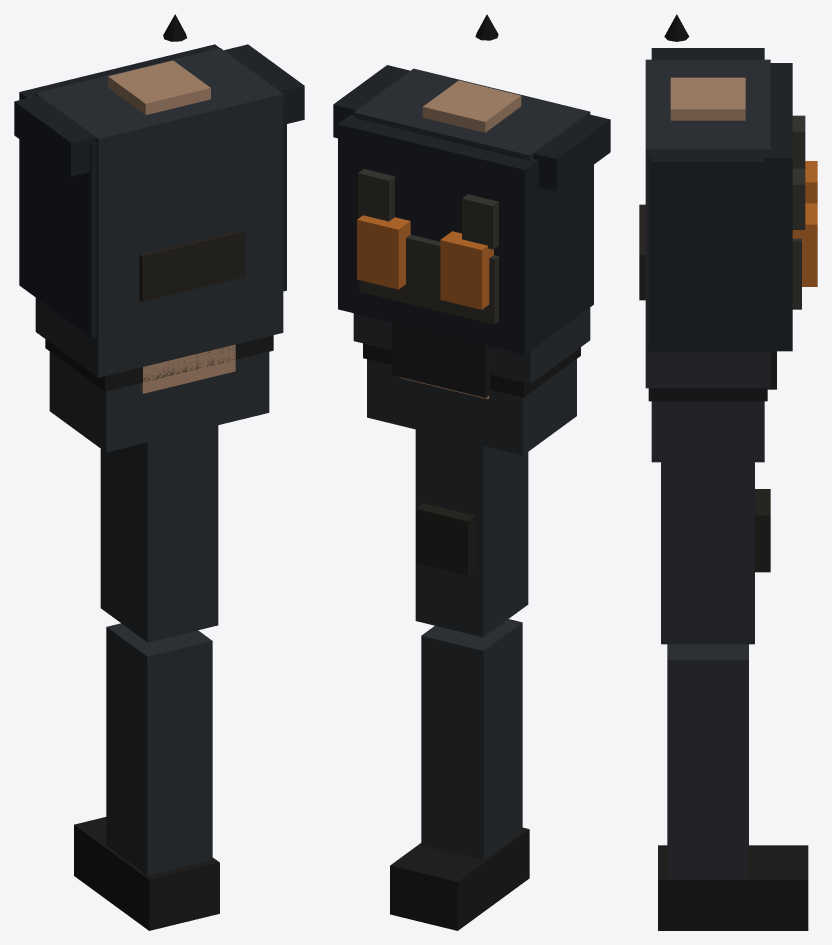
The model's file is operator_bandit.glb.
3 renders of one model, left to right at view 1: azimuth 30°, elevation 25°; view 2: azimuth 150°, elevation 25°; view 3: azimuth 270°, elevation 25°, orthographic. The views are drawn at different scales.
Parts seen in each view (by area): view 1: torso, legL, hips, head; view 2: torso, legL, hips, head; view 3: torso, legL, hips, head.
Part boxes in pixels (box(x1,y1,x2,y2)): torso: box(14, 14, 304, 377); legL: box(74, 425, 219, 930); hips: box(45, 335, 273, 452); head: box(139, 229, 245, 393); torso: box(333, 14, 610, 383); legL: box(390, 429, 529, 930); hips: box(363, 343, 580, 455); head: box(392, 322, 491, 399); torso: box(645, 14, 817, 388); legL: box(658, 462, 808, 930); hips: box(648, 388, 767, 462); head: box(639, 204, 776, 389).
Bounding box in the file's own units: 0.43 × 1.58 × 0.285.
